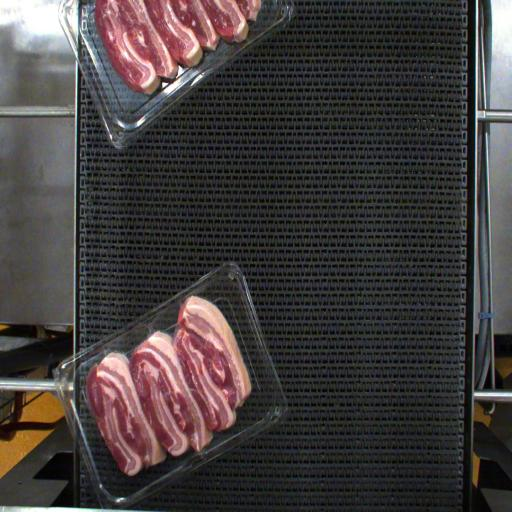packaging-error: (137, 306, 160, 337), (95, 335, 112, 356)
